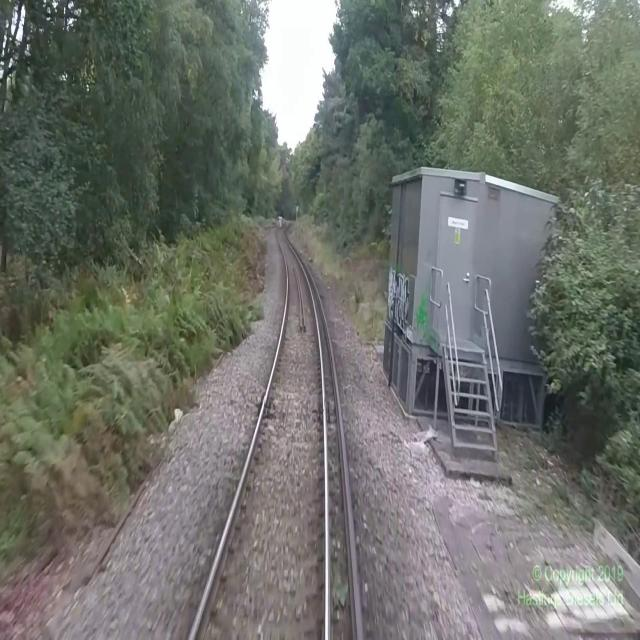rail-track: (193, 227, 324, 639)
